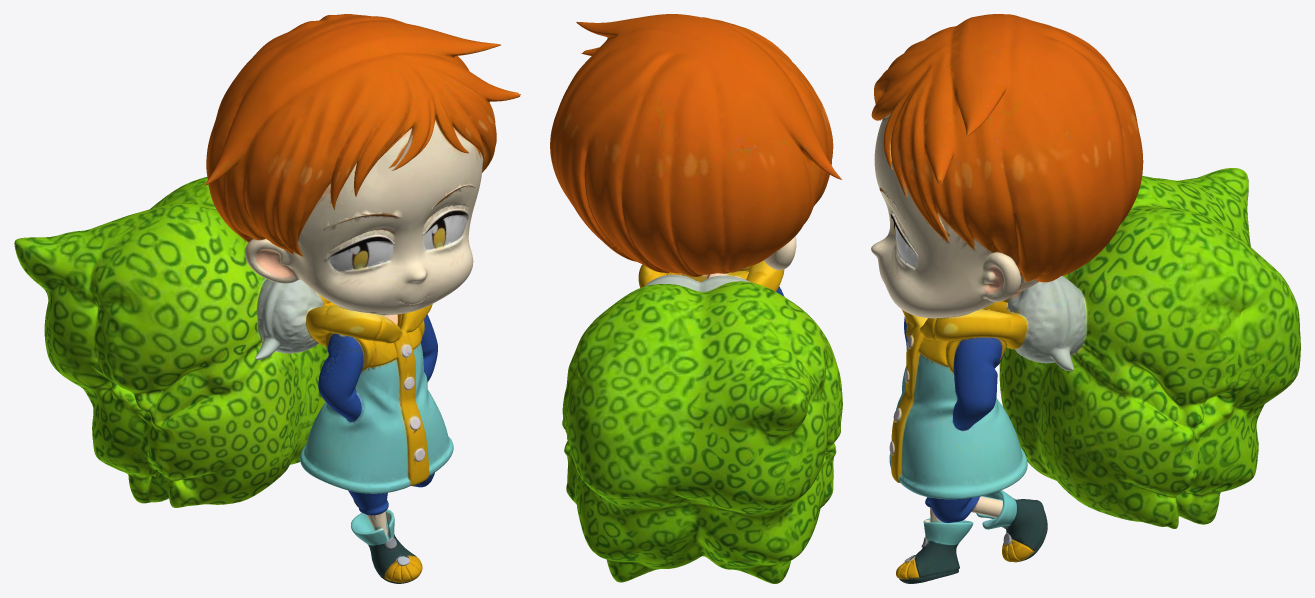
File: rey-hada-chibi-b.glb
3 views of the same model, side by side, from view 1: azimuth 30°, elevation 25°; view 2: azimuth 150°, elevation 25°; view 3: azimuth 270°, elevation 25° (orthographic). The views are drawn at different scales.
Bounding box in the file's own units: 1.38 × 1.9 × 1.34.
1 material, 1 textured.
